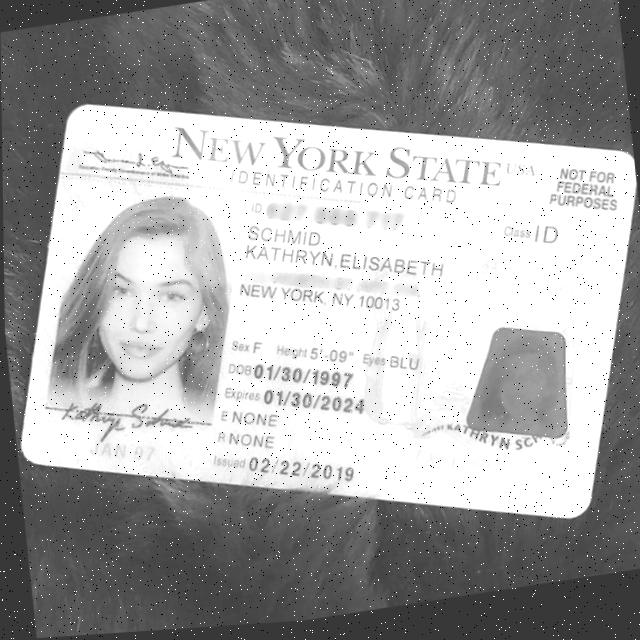card: (22, 106, 635, 518)
